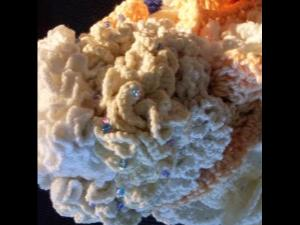bleached_corals: (38, 0, 262, 225), (163, 0, 262, 37)
